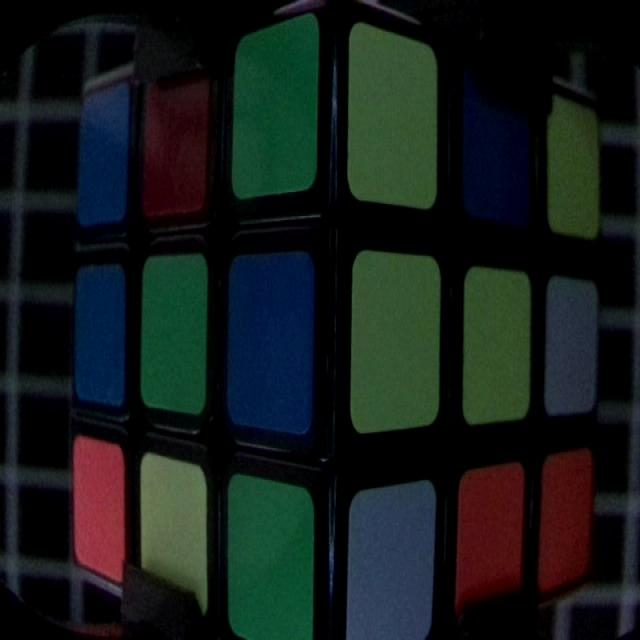b: (223, 257, 311, 437), (454, 59, 532, 228), (75, 86, 128, 228), (75, 270, 128, 411)
g: (227, 478, 313, 640), (238, 26, 318, 197), (143, 264, 205, 412)
o: (75, 436, 125, 586)
r: (140, 45, 210, 216), (458, 468, 522, 619), (540, 457, 592, 583)
w: (350, 477, 435, 640), (546, 278, 596, 416)
y: (349, 22, 438, 208), (352, 261, 440, 434), (139, 455, 206, 614), (463, 274, 532, 417), (548, 93, 603, 244)
